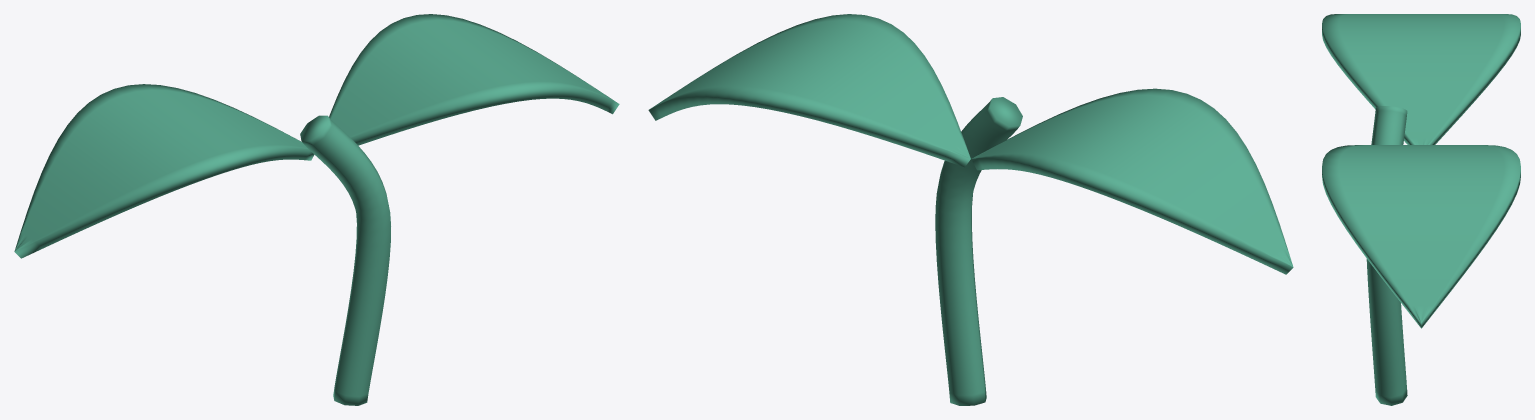
Rendered from Feminine-sprout-extra.glb.
3 views of the same model, side by side, from view 1: azimuth 30°, elevation 25°; view 2: azimuth 150°, elevation 25°; view 3: azimuth 270°, elevation 25° (orthographic). The views are drawn at different scales.
Parts seen in each view (by area): view 1: 226 extra / Accessory / mint226; view 2: 226 extra / Accessory / mint226; view 3: 226 extra / Accessory / mint226.
Part boxes in pixels (x1,y1,x2,y2): 226 extra / Accessory / mint226: (14,14,619,405); 226 extra / Accessory / mint226: (648,14,1293,405); 226 extra / Accessory / mint226: (1322,14,1520,405).
Size of the model in its own units: 0.34 by 0.1639 by 0.1.
